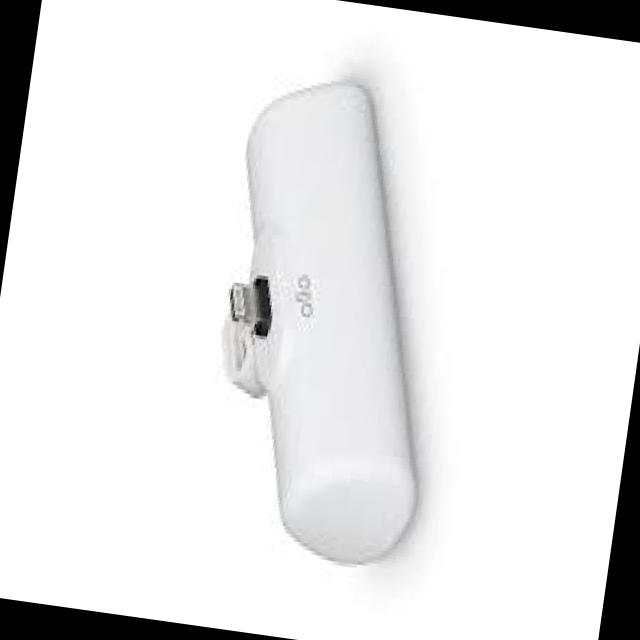power_bank: (181, 49, 482, 586)
